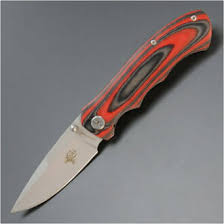knife: (7, 5, 216, 217)
